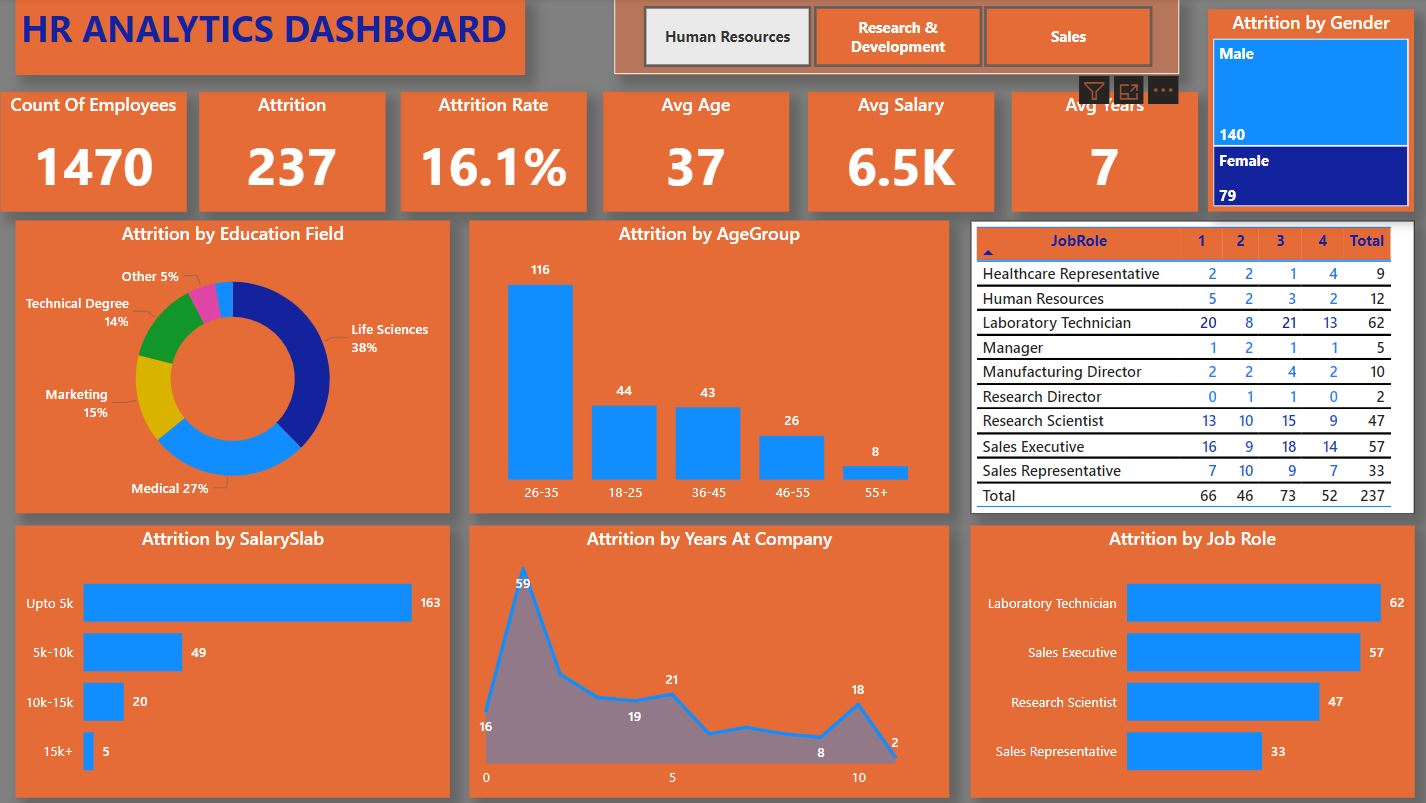

The page's visual inventory and layout, read from the dashboard file:
{"tool":"powerbi","page":{"name":"Home","canvas":[1280,720],"ordinal":0},"visuals":[{"type":"card","title":"Count Of Employees","fields":{"Values":["CountNonNull(HR_Analytics (1).EmpID)"]},"box":[2.7,83.7,166,107],"z":0},{"type":"card","title":"Avg Age","fields":{"Values":["Avg(HR_Analytics (1).Age)"]},"box":[540.7,83.7,166,107],"z":1000},{"type":"card","title":"Attrition Rate","fields":{"Values":["HR_Analytics (1).AttritionRate"]},"box":[359.5,83.7,166,107],"z":2000},{"type":"card","title":"Attrition","fields":{"Values":["Sum(HR_Analytics (1).AttritionCount)"]},"box":[179.8,83.7,166,107],"z":3000},{"type":"card","title":"Avg Salary","fields":{"Values":["Avg(HR_Analytics (1).MonthlyIncome)"]},"box":[723.2,83.7,166,107],"z":4000},{"type":"card","title":"Avg Years","fields":{"Values":["Avg(HR_Analytics (1).YearsAtCompany)"]},"box":[905.7,83.7,166,107],"z":5000},{"type":"donutChart","title":"Attrition by Education Field","fields":{"Category":["HR_Analytics (1).EducationField"],"Y":["Sum(HR_Analytics (1).AttritionCount)"]},"box":[15.1,198.8,388.4,261.6],"z":6000},{"type":"columnChart","title":"Attrition by AgeGroup","fields":{"Category":["HR_Analytics (1).AgeGroup"],"Y":["Sum(HR_Analytics (1).AttritionCount)"]},"box":[420.9,198.8,429.1,261.6],"z":7000},{"type":"pivotTable","fields":{"Rows":["HR_Analytics (1).JobRole"],"Columns":["HR_Analytics (1).JobSatisfaction"],"Values":["Sum(HR_Analytics (1).AttritionCount)"]},"box":[868.6,199,396.6,262.1],"z":8000},{"type":"barChart","title":"Attrition by SalarySlab","fields":{"Category":["HR_Analytics (1).SalarySlab"],"Y":["Sum(HR_Analytics (1).AttritionCount)"]},"box":[15.1,470.9,388.4,243],"z":9000},{"type":"barChart","title":"Attrition by Job Role","fields":{"Y":["Sum(HR_Analytics (1).AttritionCount)"],"Category":["HR_Analytics (1).JobRole"]},"box":[868.6,470.7,396.6,242.9],"z":10000},{"type":"areaChart","title":"Attrition by Years At Company","fields":{"Category":["HR_Analytics (1).YearsAtCompany"],"Y":["Sum(HR_Analytics (1).AttritionCount)"]},"box":[420.9,470.9,429.1,243],"z":11000},{"type":"treemap","title":"Attrition by Gender","fields":{"Values":["Sum(HR_Analytics (1).AttritionCount)"],"Group":["HR_Analytics (1).Gender"]},"box":[1081.3,9.6,183.9,181.1],"z":12000},{"type":"slicer","title":"Attrition by AgeGroup","fields":{"Values":["HR_Analytics (1).Department"]},"box":[550.3,0,505,68.6],"z":13000},{"type":"textbox","box":[15.1,0,455.6,68.6],"z":14000}]}

Visuals, with their boxes in screenshot pixels (x1, y1, x2, y2), scaled from the page's 1280x720 canvas onto the 1426x803 screenshot:
"Count Of Employees" card: select_region(3, 93, 188, 213)
"Avg Age" card: select_region(602, 93, 787, 213)
"Attrition Rate" card: select_region(401, 93, 585, 213)
"Attrition" card: select_region(200, 93, 385, 213)
"Avg Salary" card: select_region(806, 93, 991, 213)
"Avg Years" card: select_region(1009, 93, 1194, 213)
"Attrition by Education Field" donutChart: select_region(17, 222, 450, 513)
"Attrition by AgeGroup" columnChart: select_region(469, 222, 947, 513)
pivotTable - HR_Analytics (1).JobRole x HR_Analytics (1).JobSatisfaction: select_region(968, 222, 1410, 514)
"Attrition by SalarySlab" barChart: select_region(17, 525, 450, 796)
"Attrition by Job Role" barChart: select_region(968, 525, 1410, 796)
"Attrition by Years At Company" areaChart: select_region(469, 525, 947, 796)
"Attrition by Gender" treemap: select_region(1205, 11, 1410, 213)
"Attrition by AgeGroup" slicer: select_region(613, 0, 1176, 77)
textbox: select_region(17, 0, 524, 77)
